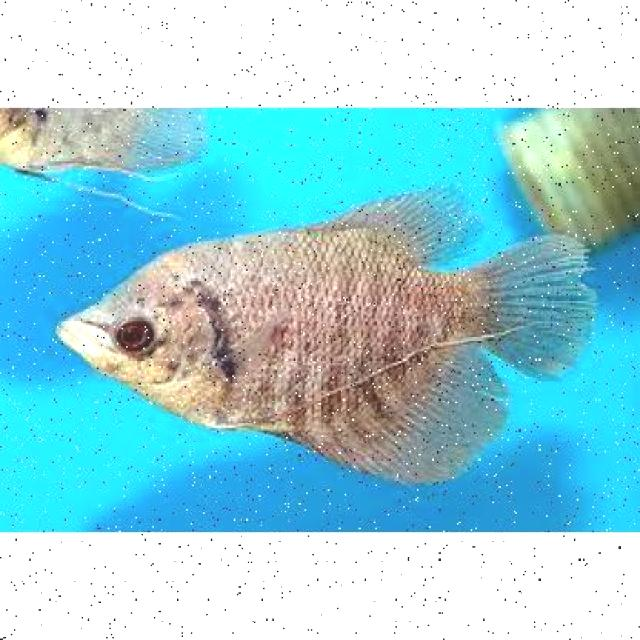gurame: (87, 218, 576, 480)
